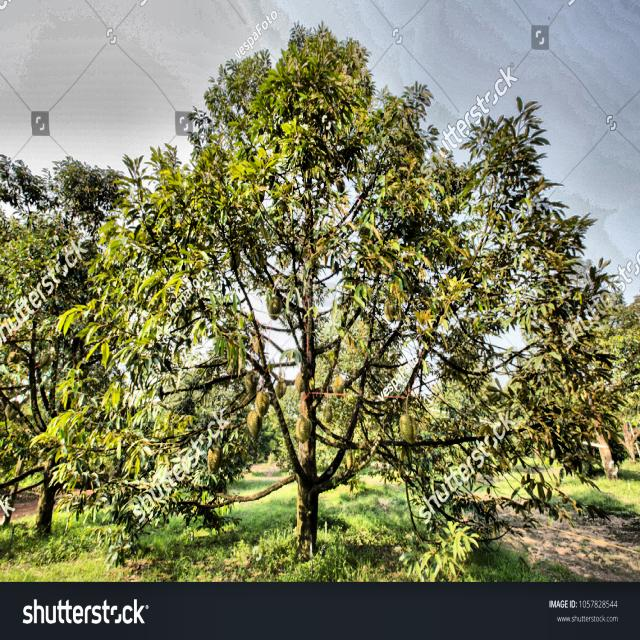arvore: (298, 196, 326, 578)
